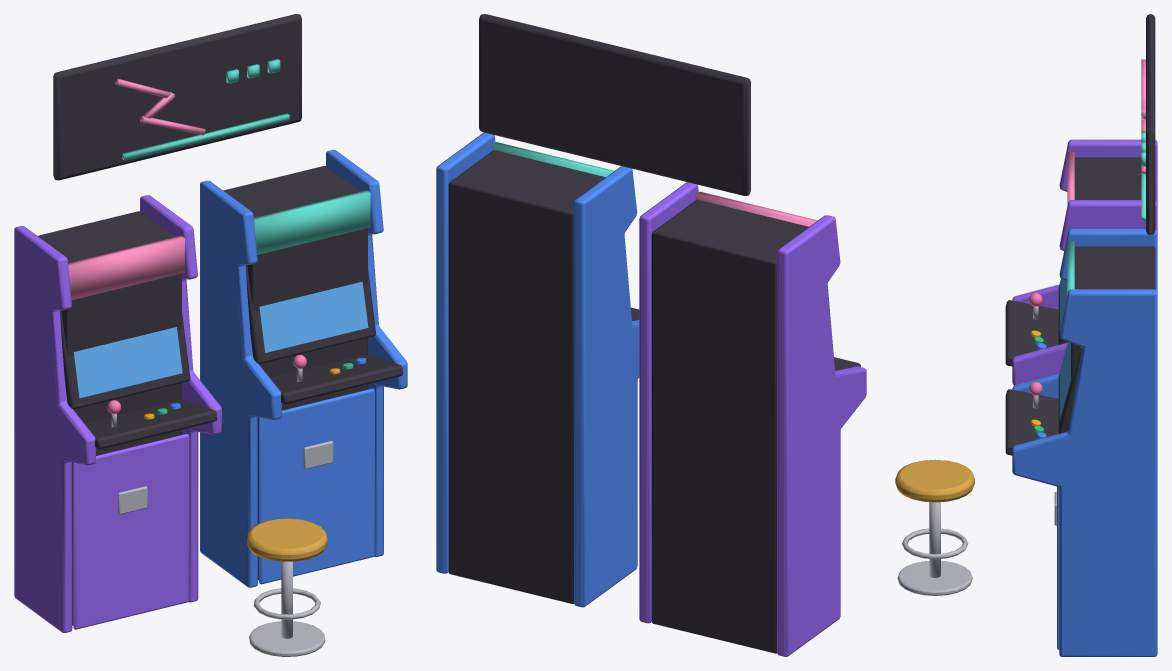
Rendered from arcade_l3.glb.
The picture shows the model from 3 angles, left to right: view 1: azimuth 30°, elevation 25°; view 2: azimuth 150°, elevation 25°; view 3: azimuth 270°, elevation 25°; orthographic projection. The views are drawn at different scales.
Parts seen in each view (by area): view 1: arcade_l3, arcade_screen, arcade_screen_2, b__marquee, a__marquee, arcade_neon_glow; view 2: arcade_l3, a__marquee, b__marquee; view 3: arcade_l3, arcade_neon_glow, arcade_screen_2, b__marquee, a__marquee.
Part boxes in pixels (left/top/right/bottom): arcade_l3: left=14, top=14, right=407, bottom=656; arcade_screen: left=73, top=327, right=182, bottom=398; arcade_screen_2: left=259, top=281, right=368, bottom=352; b__marquee: left=254, top=190, right=370, bottom=254; a__marquee: left=68, top=235, right=184, bottom=300; arcade_neon_glow: left=115, top=59, right=289, bottom=160; arcade_l3: left=436, top=14, right=866, bottom=656; a__marquee: left=695, top=191, right=817, bottom=226; b__marquee: left=492, top=142, right=614, bottom=176; arcade_l3: left=895, top=14, right=1157, bottom=656; arcade_neon_glow: left=1141, top=59, right=1145, bottom=221; arcade_screen_2: left=1059, top=342, right=1070, bottom=420; b__marquee: left=1067, top=241, right=1074, bottom=294; a__marquee: left=1067, top=152, right=1074, bottom=205.
Bounding box in the file's own units: 1.56 × 2.4 × 1.12.
